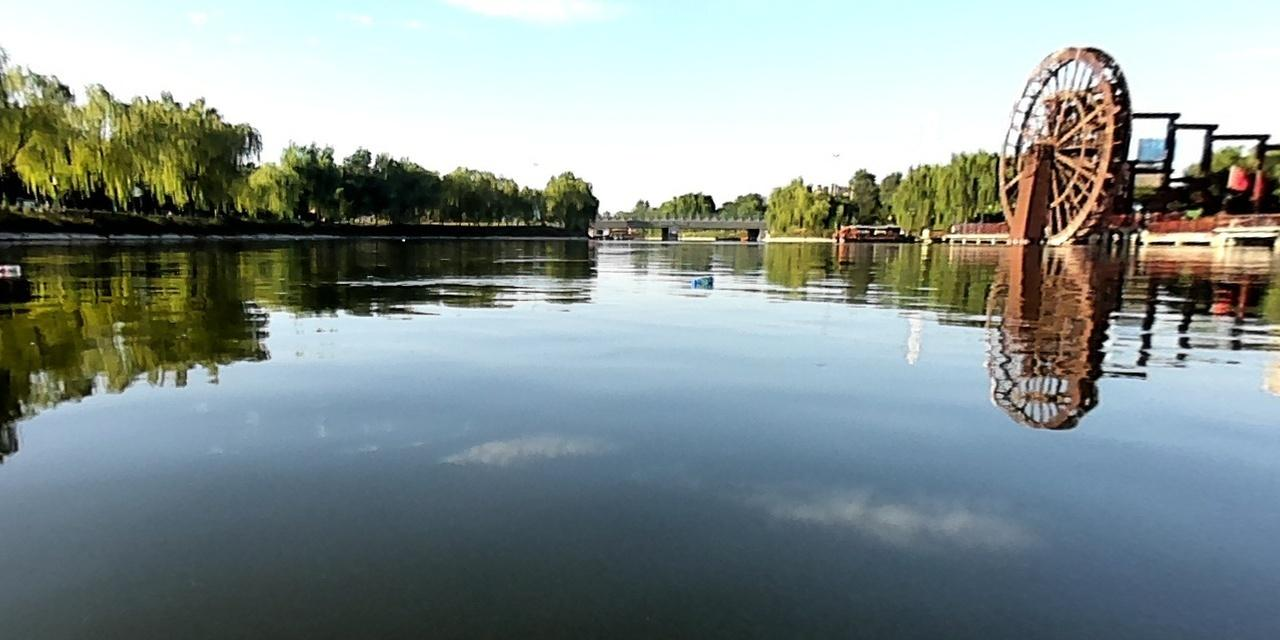bottle: (688, 274, 716, 290), (0, 261, 23, 278)
